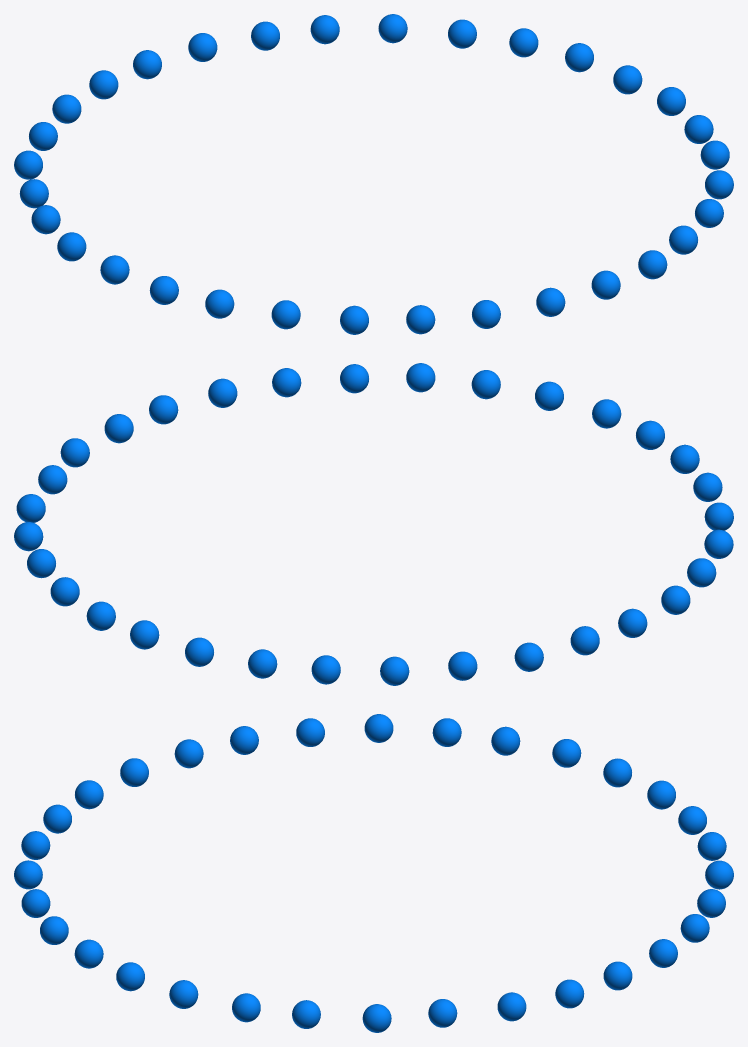
3 views of the same model, one above another, from view 1: azimuth 30°, elevation 25°; view 2: azimuth 150°, elevation 25°; view 3: azimuth 270°, elevation 25° (orthographic).
Visible parts, largest first — view 1: Sphere052; view 2: Sphere052; view 3: Sphere052.
Part boxes in pixels (x1=…): Sphere052: x1=14, y1=14, x2=733, y2=334; Sphere052: x1=14, y1=363, x2=733, y2=685; Sphere052: x1=14, y1=714, x2=733, y2=1032.
Size of the model in its own units: 203 by 8.22 by 204.
